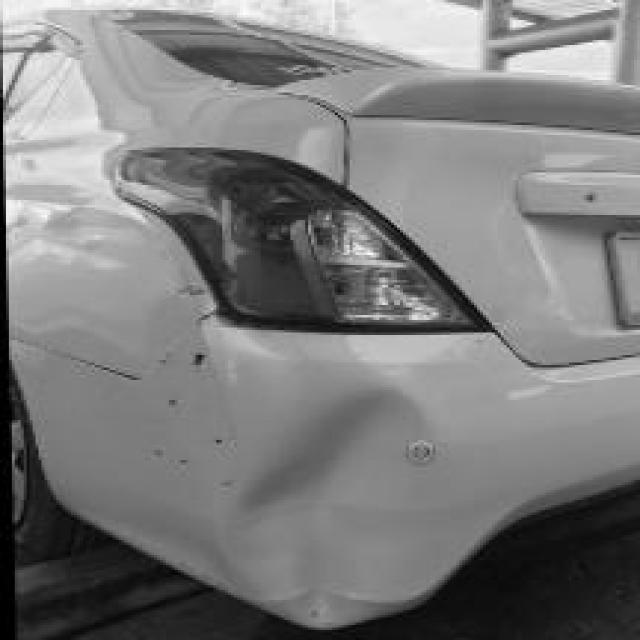Bumper: (117, 310, 550, 631)
